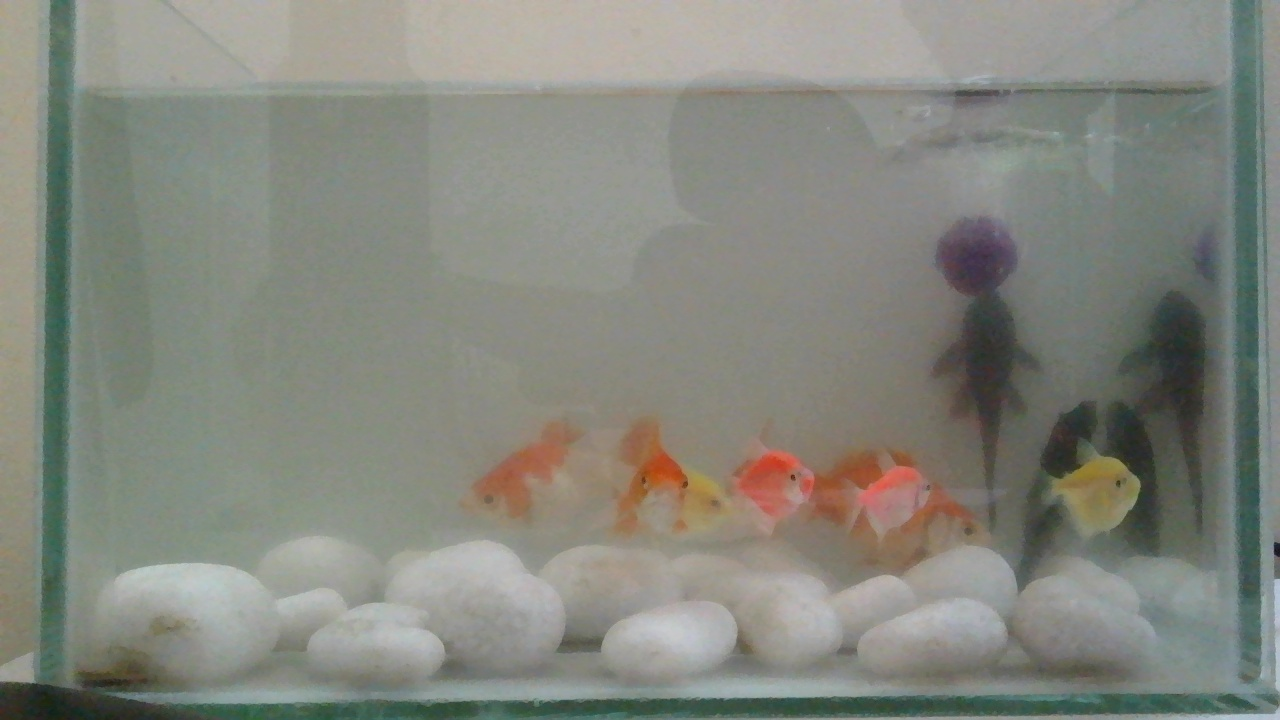fish: (1011, 396, 1147, 564), (465, 409, 590, 527), (1029, 413, 1142, 540), (720, 439, 820, 538), (616, 409, 690, 531)
